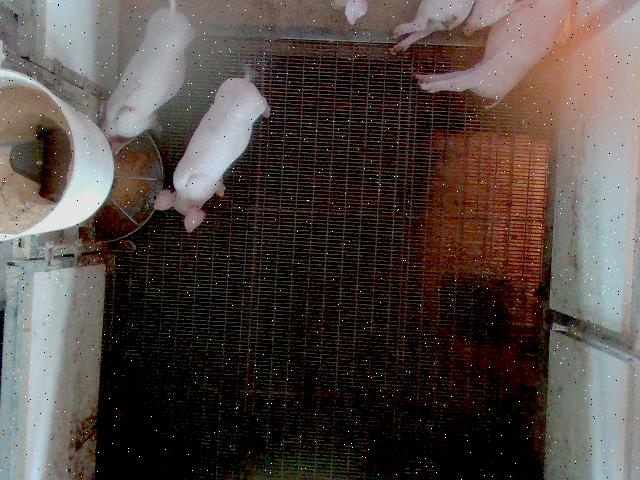pig-5: (101, 2, 194, 154)
